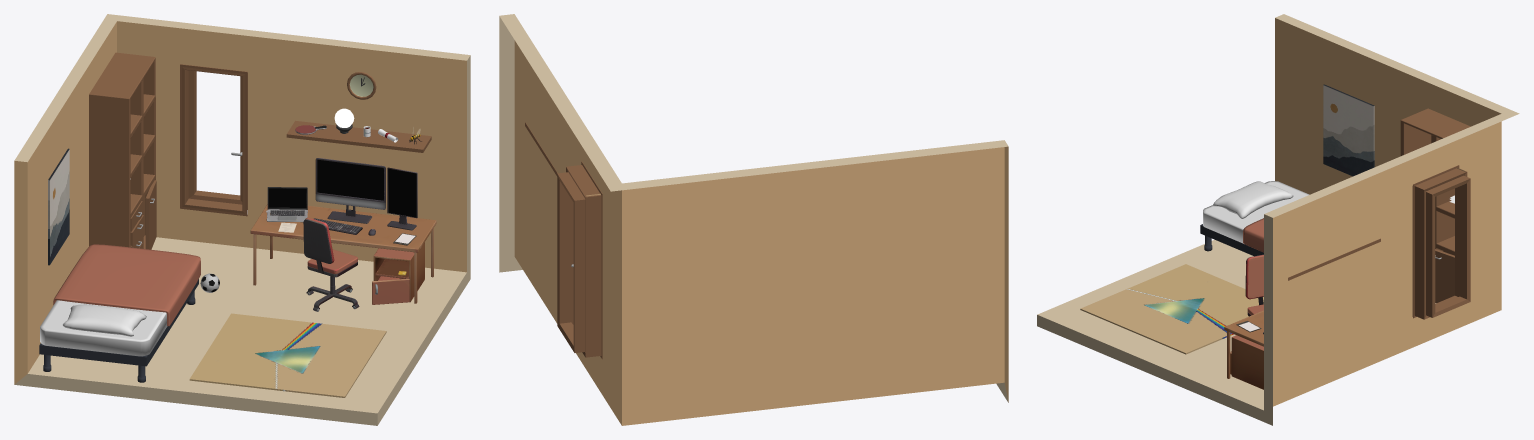
File: room.glb
3 renders of one model, left to right at view 1: azimuth 30°, elevation 25°; view 2: azimuth 150°, elevation 25°; view 3: azimuth 270°, elevation 25°, orthographic. The views are drawn at different scales.
Parts seen in each view (by area): view 1: Cube.001, Final, Plane.002, Cube.016, Cube.015, Cube.026, Cube.002, Final.001, Screen, Cube.173, Cube.003, Plane (+2 smaller); view 2: Cube.001, Cube.003, Cube.002; view 3: Cube.001, Plane.002, Plane, Cube.026, Cube.003, Cube.002, Cube.016, Final, Final.001, Cube.012, Cube.015.
Part boxes in pixels (x1,y1,x2,y2): Cube.001: (14,14,470,425); Final: (250,158,436,304); Plane.002: (189,313,386,397); Cube.016: (89,52,155,248); Cube.015: (53,244,200,326); Cube.026: (39,279,198,382); Cube.002: (180,64,247,216); Final.001: (303,217,359,311); Screen: (317,159,383,200); Cube.173: (286,120,431,152); Cube.003: (188,70,242,204); Plane: (48,148,69,265); Cube.001: (499,14,1008,425); Cube.003: (557,172,585,352); Cube.002: (566,161,602,359); Cube.001: (1037,14,1519,425); Plane.002: (1080,264,1263,354); Plane: (1323,84,1374,176); Cube.026: (1200,181,1309,256); Cube.003: (1426,175,1470,317); Cube.002: (1412,165,1467,319); Cube.016: (1400,108,1470,255); Final: (1224,310,1263,389); Final.001: (1245,254,1263,316); Cube.012: (1435,249,1454,303); Cube.015: (1243,218,1263,252).
Size of the model in its own units: 4.46 by 2.12 by 4.46.
Materials: 29 (9 with a texture image).
